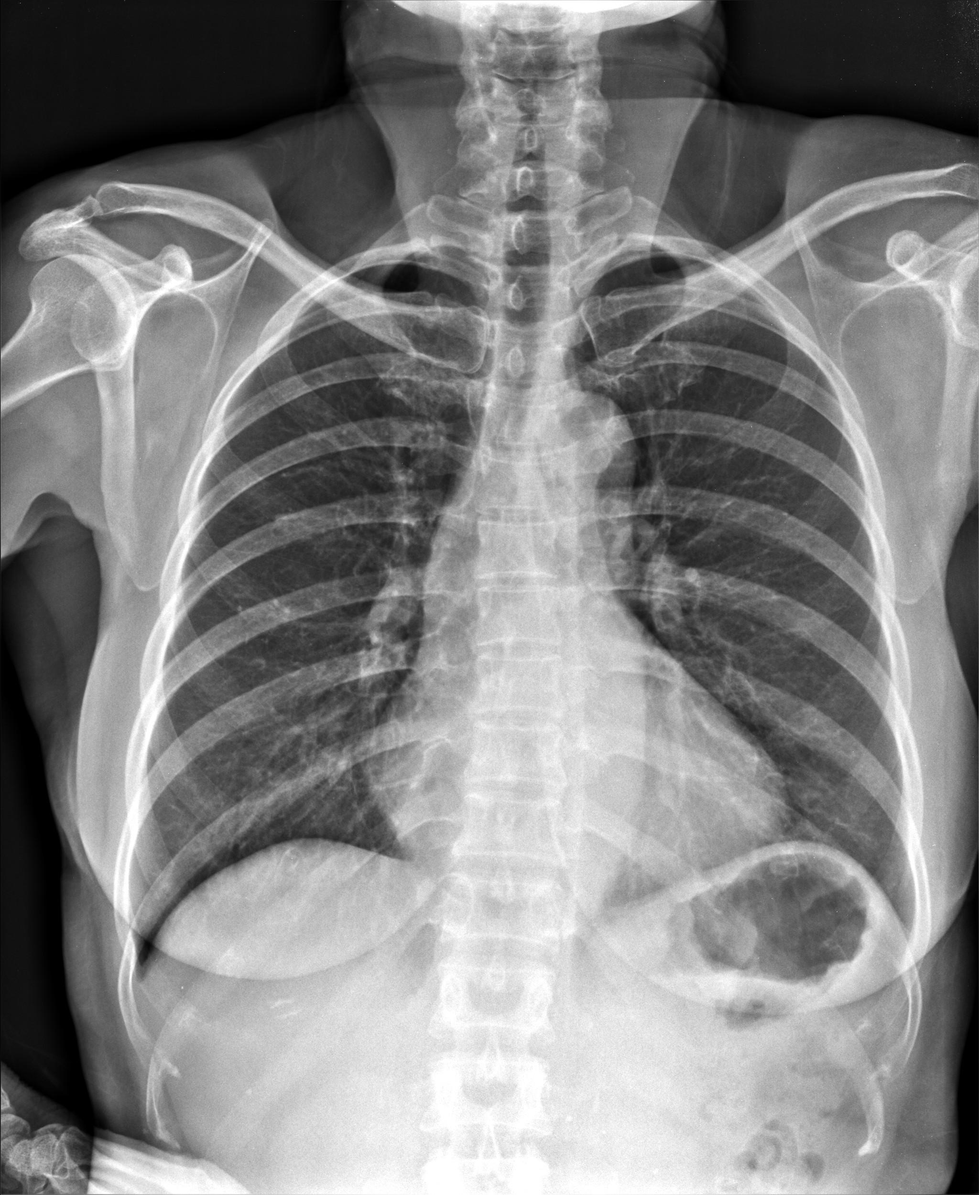Aortic enlargement: (522, 390, 637, 519)
Cardiomegaly: (359, 703, 789, 871)
